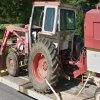Tractor: (15, 0, 84, 90)
